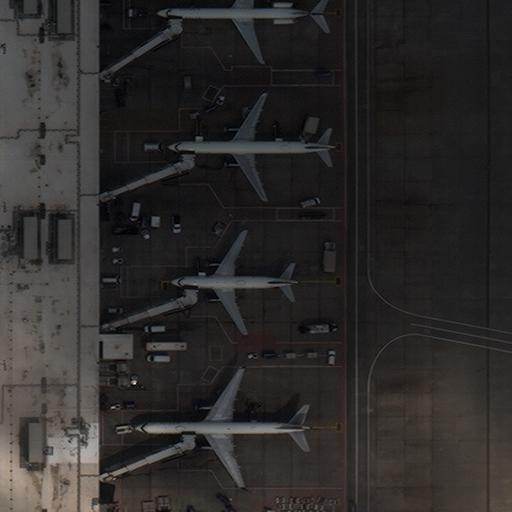Large Civil Transport: (133, 368, 312, 488)
Medium Civil Transport: (165, 92, 338, 200), (168, 231, 301, 333), (152, 0, 329, 63)
